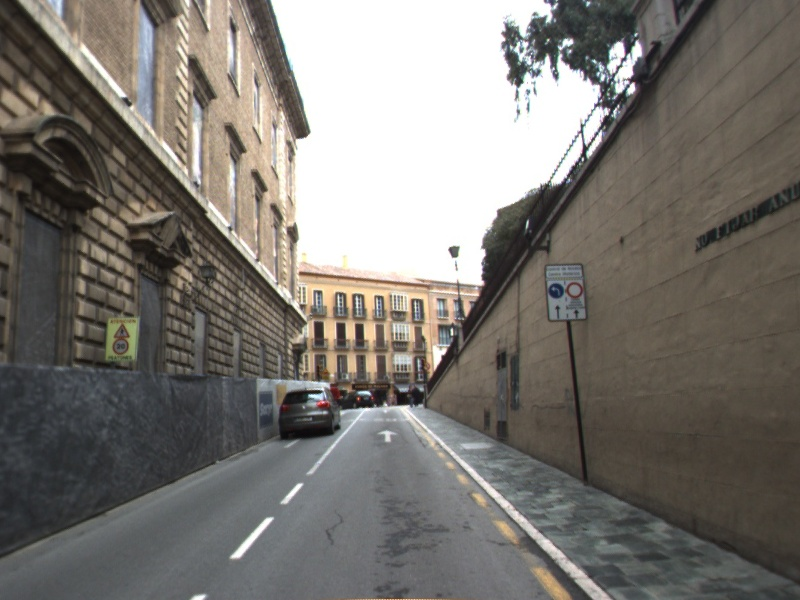STRAIGHT: (375, 427, 400, 444)
